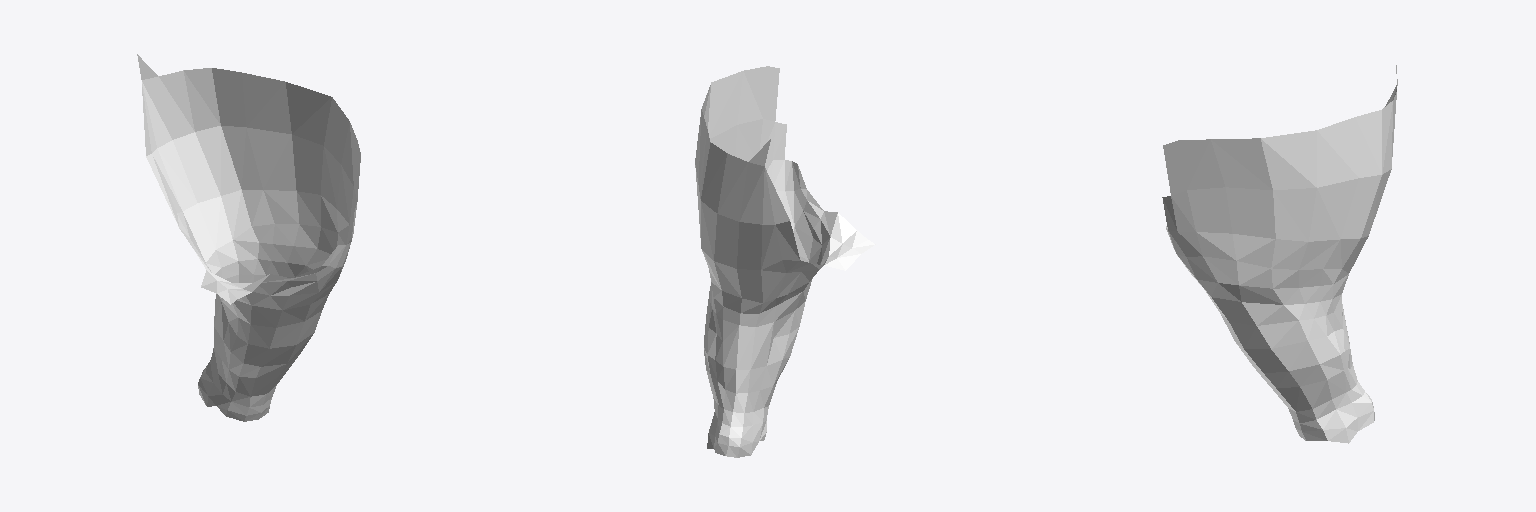
File: leg_rear_upper_left.obj
The picture shows the model from 3 angles: view 1: azimuth 30°, elevation 25°; view 2: azimuth 150°, elevation 25°; view 3: azimuth 270°, elevation 25°; orthographic projection.
Parts seen in each view (by area): view 1: horse; view 2: horse; view 3: horse.
Part boxes in pixels (left/top/right/bottom): horse: left=137, top=54, right=360, bottom=421; horse: left=695, top=66, right=875, bottom=457; horse: left=1162, top=65, right=1397, bottom=443.
Bounding box in the file's own units: 14.45 × 36.29 × 22.17.